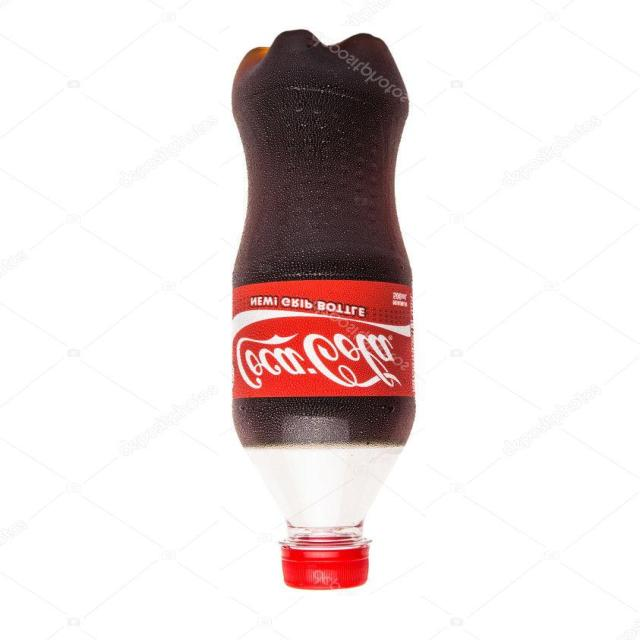coca-cola: (219, 26, 426, 596)
